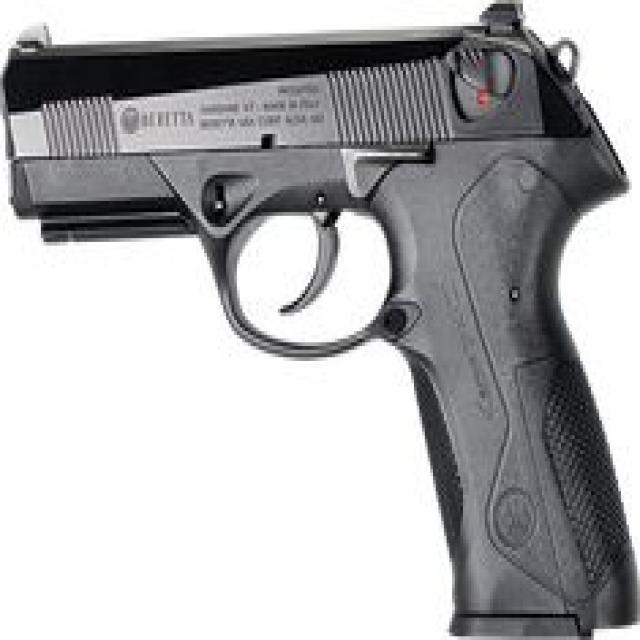semi automatic: (4, 1, 640, 640)
